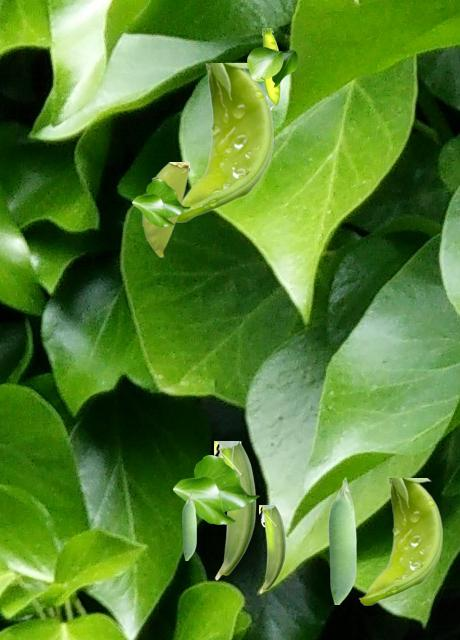pea: (177, 63, 272, 221), (358, 478, 441, 604), (214, 441, 256, 579), (142, 162, 188, 256), (328, 477, 355, 603), (259, 505, 286, 592), (262, 28, 279, 109), (182, 491, 195, 559)
